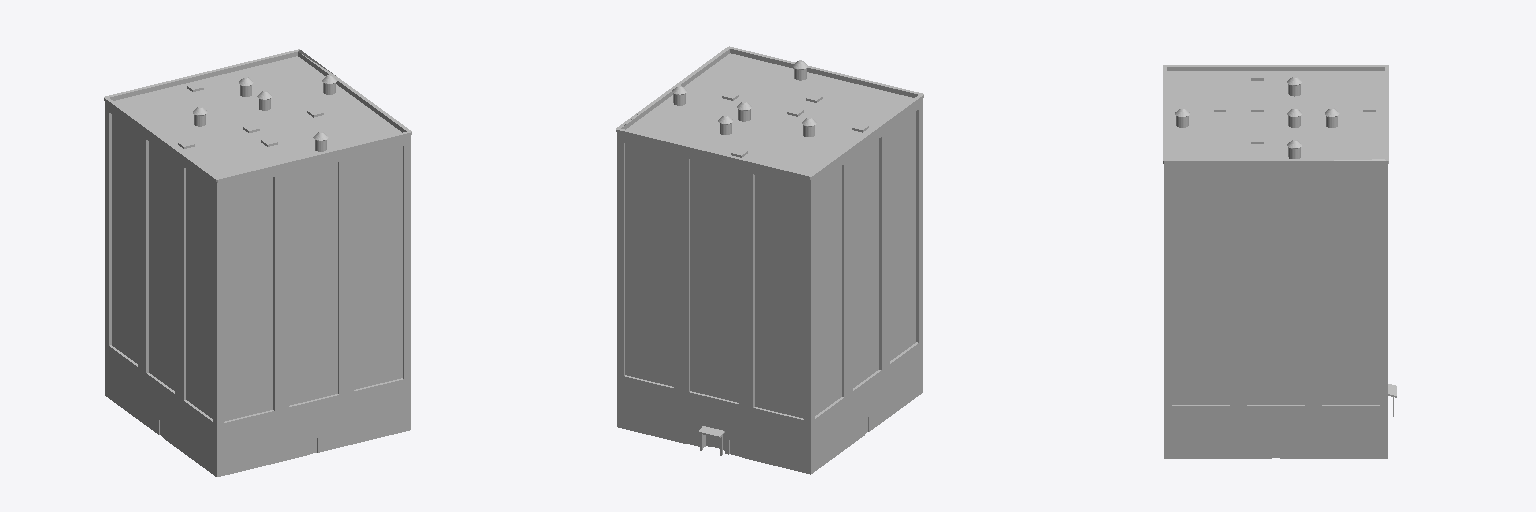
File: skyscraper_d_embiggened.obj
The picture shows the model from 3 angles: view 1: azimuth 30°, elevation 25°; view 2: azimuth 150°, elevation 25°; view 3: azimuth 270°, elevation 25°; orthographic projection.
Parts seen in each view (by area): view 1: skyscraperD.003, skyscraperD.001, skyscraperD.016; view 2: skyscraperD.003, skyscraperD.001, skyscraperD.016; view 3: skyscraperD.003, skyscraperD.001, skyscraperD.016.
Boxes of the visible parts, <box> form: skyscraperD.003: <box>105,106,410,428</box>; skyscraperD.001: <box>104,49,411,186</box>; skyscraperD.016: <box>105,347,410,476</box>; skyscraperD.003: <box>617,103,922,425</box>; skyscraperD.001: <box>616,46,923,184</box>; skyscraperD.016: <box>617,344,922,474</box>; skyscraperD.003: <box>1164,159,1387,409</box>; skyscraperD.001: <box>1163,65,1388,168</box>; skyscraperD.016: <box>1164,384,1396,458</box>.
Size of the model in its own units: 7.28 by 11 by 7.54.